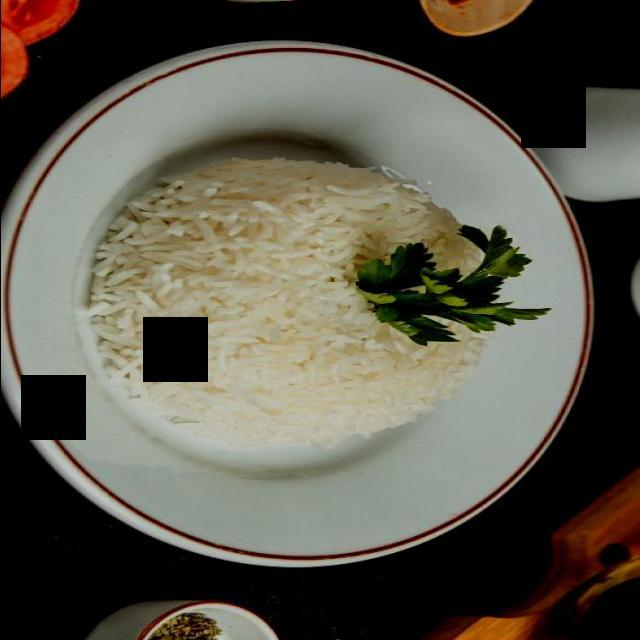rice: (86, 158, 500, 447)
